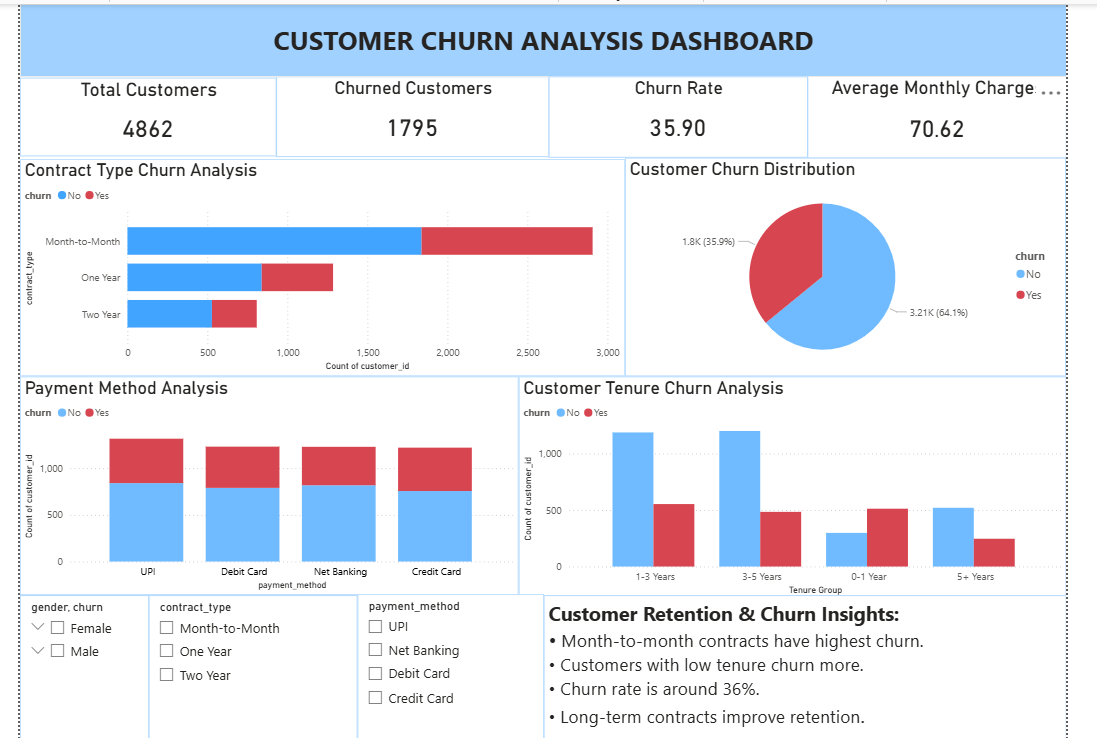

The dashboard page shown, as its layout file describes it:
{"tool":"powerbi","page":{"name":"Page 1","canvas":[1280,900],"ordinal":0},"visuals":[{"type":"card","title":"Total Customers","fields":{"Values":["Count(customer_churn_dataset.customer_id)"]},"box":[0,90.2,313.4,96.3],"z":0},{"type":"card","title":"Churned Customers","fields":{"Values":["customer_churn_dataset.Churned Customers"]},"box":[312.9,89.2,333.4,98.8],"z":1000},{"type":"slicer","fields":{"Values":["customer_churn_dataset.gender","customer_churn_dataset.churn"]},"box":[0,723,157.4,177.3],"z":2000},{"type":"card","title":"Average Monthly Charges","fields":{"Values":["Avg(customer_churn_dataset.monthly_charges)"]},"box":[963.3,86.4,317,101.5],"z":3000},{"type":"columnChart","title":"Payment Method Analysis","fields":{"Category":["customer_churn_dataset.payment_method"],"Y":["CountNonNull(customer_churn_dataset.customer_id)"],"Series":["customer_churn_dataset.churn"]},"box":[0,455.5,609.9,267.5],"z":4000},{"type":"pieChart","title":"Customer Churn Distribution","fields":{"Category":["customer_churn_dataset.churn"],"Y":["CountNonNull(customer_churn_dataset.customer_id)"]},"box":[739.8,188,539.6,267.5],"z":5000},{"type":"textbox","box":[0,0,1280.3,89.2],"z":6000},{"type":"barChart","title":"Contract Type Churn Analysis","fields":{"Category":["customer_churn_dataset.contract_type"],"Y":["CountNonNull(customer_churn_dataset.customer_id)"],"Series":["customer_churn_dataset.churn"]},"box":[0,189.5,739.8,266],"z":7000},{"type":"card","title":"Churn Rate","fields":{"Values":["customer_churn_dataset.Churn Rate"]},"box":[646.6,88.7,316.4,99.4],"z":8000},{"type":"clusteredColumnChart","title":"Customer Tenure Churn Analysis","fields":{"Category":["customer_churn_dataset.Tenure Group"],"Y":["CountNonNull(customer_churn_dataset.customer_id)"],"Series":["customer_churn_dataset.churn"]},"box":[609.9,455.5,669.5,273.6],"z":10000},{"type":"slicer","fields":{"Values":["customer_churn_dataset.contract_type"]},"box":[157.4,723,255.3,177.3],"z":11000},{"type":"slicer","fields":{"Values":["customer_churn_dataset.payment_method"]},"box":[412.7,721.5,227.8,178.8],"z":12000},{"type":"textbox","box":[640.5,723,638.9,177.3],"z":13000}]}

Visuals, with their boxes on the page's 1280x900 design canvas (x1, y1, x2, y2). These are canvas units, not pixel positions in the 1097x738 screenshot, which may show the page scaled, cropped or inside an application window:
"Total Customers" card: Rect(0, 90, 313, 186)
"Churned Customers" card: Rect(313, 89, 646, 188)
slicer - customer_churn_dataset.gender x customer_churn_dataset.churn: Rect(0, 723, 157, 900)
"Average Monthly Charges" card: Rect(963, 86, 1280, 188)
"Payment Method Analysis" columnChart: Rect(0, 456, 610, 723)
"Customer Churn Distribution" pieChart: Rect(740, 188, 1279, 456)
textbox: Rect(0, 0, 1280, 89)
"Contract Type Churn Analysis" barChart: Rect(0, 190, 740, 456)
"Churn Rate" card: Rect(647, 89, 963, 188)
"Customer Tenure Churn Analysis" clusteredColumnChart: Rect(610, 456, 1279, 729)
slicer - customer_churn_dataset.contract_type: Rect(157, 723, 413, 900)
slicer - customer_churn_dataset.payment_method: Rect(413, 722, 640, 900)
textbox: Rect(640, 723, 1279, 900)
